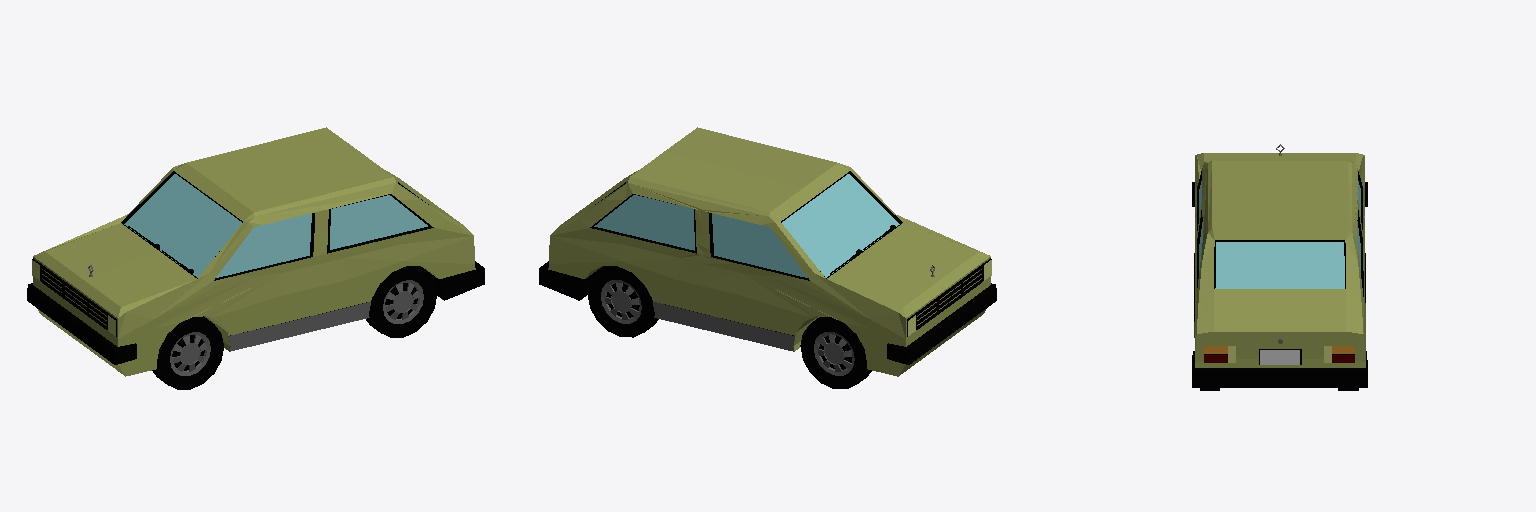
Rendered from car_yellow.obj.
3 views of the same model, side by side, from view 1: azimuth 30°, elevation 25°; view 2: azimuth 150°, elevation 25°; view 3: azimuth 270°, elevation 25° (orthographic).
Parts seen in each view (by area): view 1: car; view 2: car; view 3: car.
Boxes of the visible parts, x1,y1,x2,y2 form: car: [27, 127, 484, 389]; car: [539, 127, 996, 388]; car: [1192, 144, 1367, 390].
Bounding box in the file's own units: 20.62 × 8.35 × 8.49.